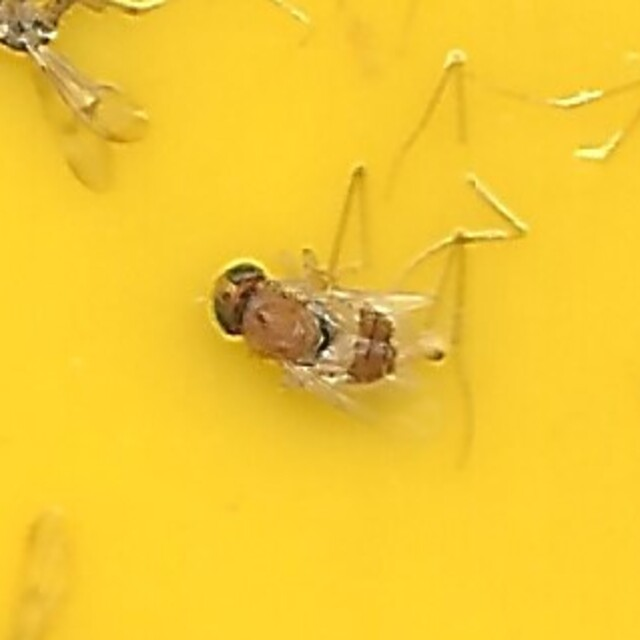Brachycera: (201, 226, 439, 414)
